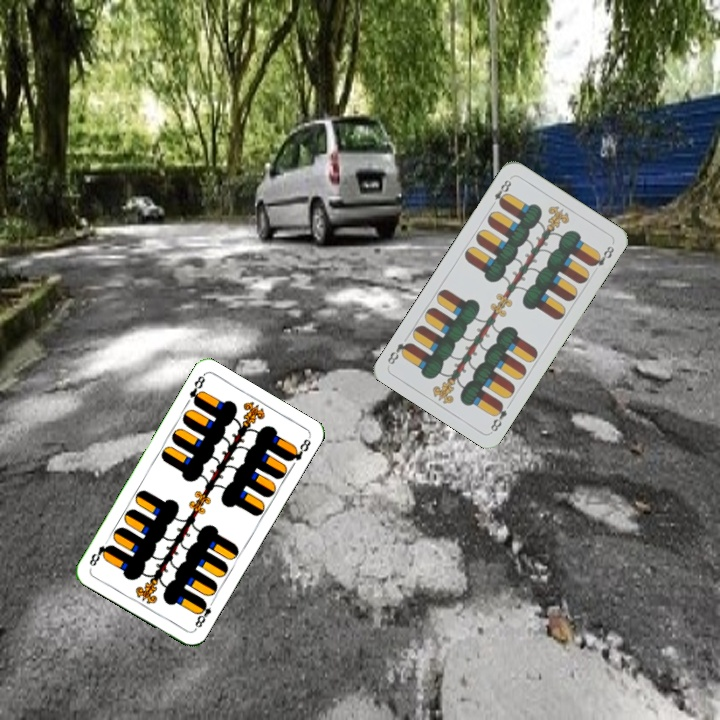E8: (190, 595, 217, 633), (487, 176, 514, 210), (486, 398, 510, 434), (185, 371, 208, 408)
